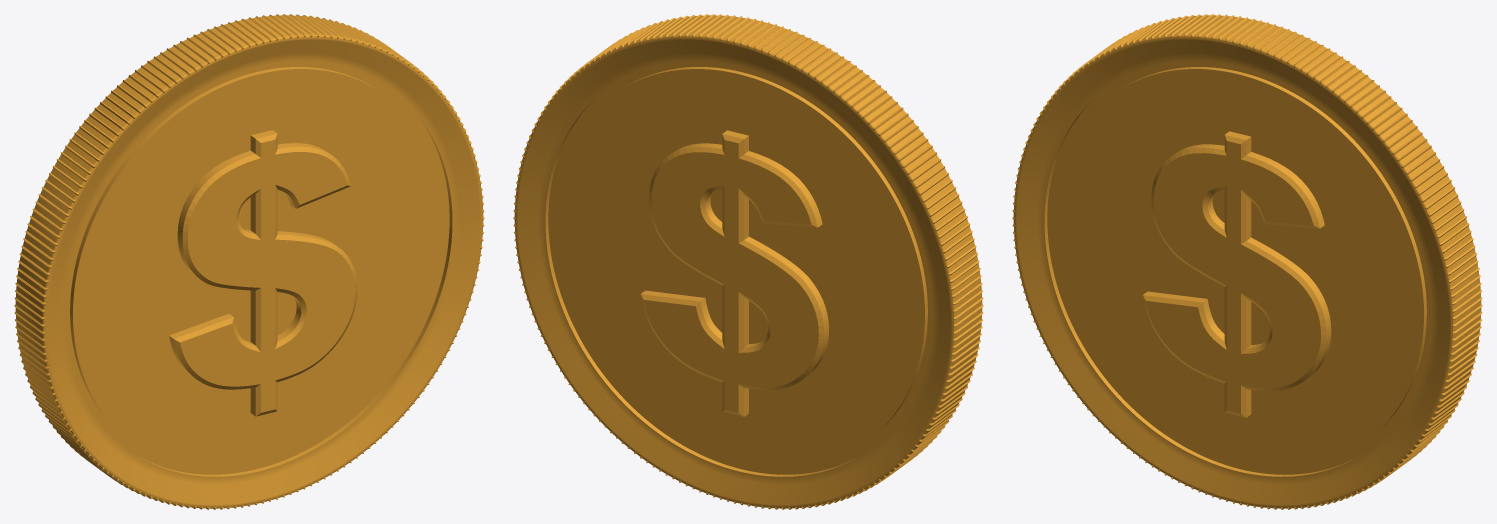
The picture shows the model from 3 angles, left to right: view 1: azimuth 30°, elevation 25°; view 2: azimuth 150°, elevation 25°; view 3: azimuth 330°, elevation 25°; orthographic projection.
Parts seen in each view (by area): view 1: model_0; view 2: model_0; view 3: model_0.
Boxes of the visible parts, x1,y1,x2,y2 form: model_0: (14,14,484,509); model_0: (513,14,983,509); model_0: (1012,14,1482,509).
Size of the model in its own units: 10361 by 10361 by 1296.
